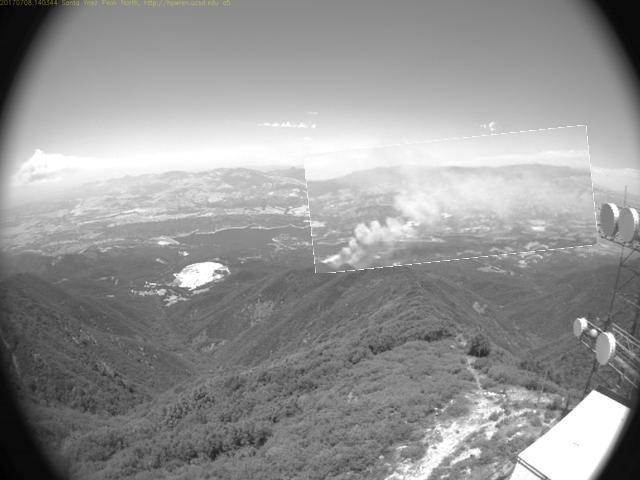smoke: (308, 134, 597, 268)
